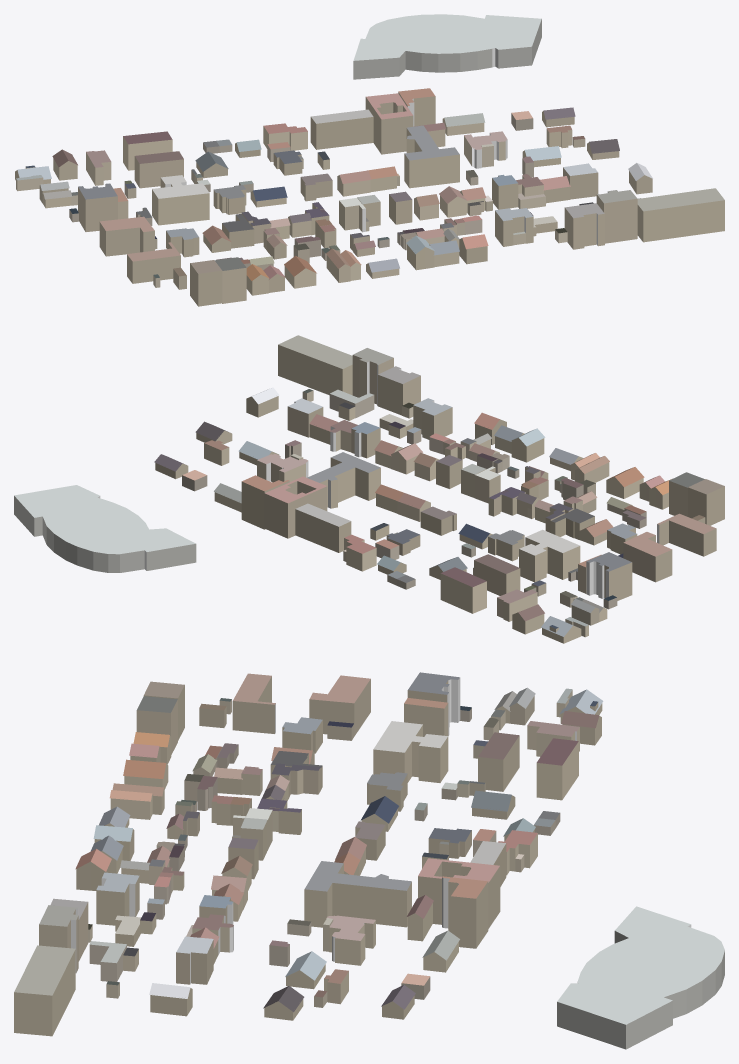
The picture shows the model from 3 angles, top to bottom: view 1: azimuth 30°, elevation 25°; view 2: azimuth 150°, elevation 25°; view 3: azimuth 270°, elevation 25°; orthographic projection. The views are drawn at different scales.
Visible parts, largest first — view 1: tuile; view 2: tuile; view 3: tuile.
Boxes of the visible parts, x1,y1,x2,y2 form: tuile: (15,14,724,306); tuile: (14,335,724,643); tuile: (14,672,724,1049).
Size of the model in its own units: 288 by 22.13 by 244.
